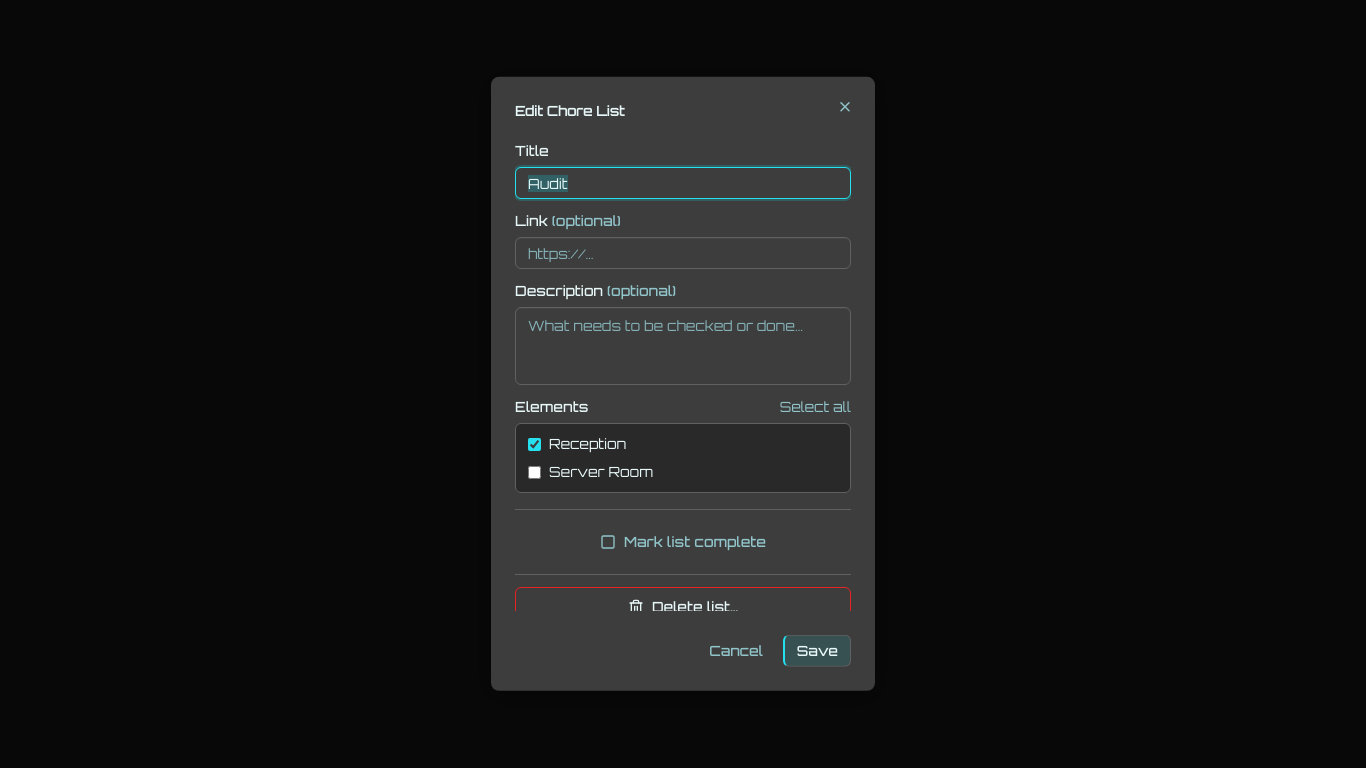
Test: EditChoreListDialog – delete › shows a confirmation prompt before deleting
The image size is (1366, 768).
Click the button "Delete list…" at (683, 607), box 515,587 -> 851,627
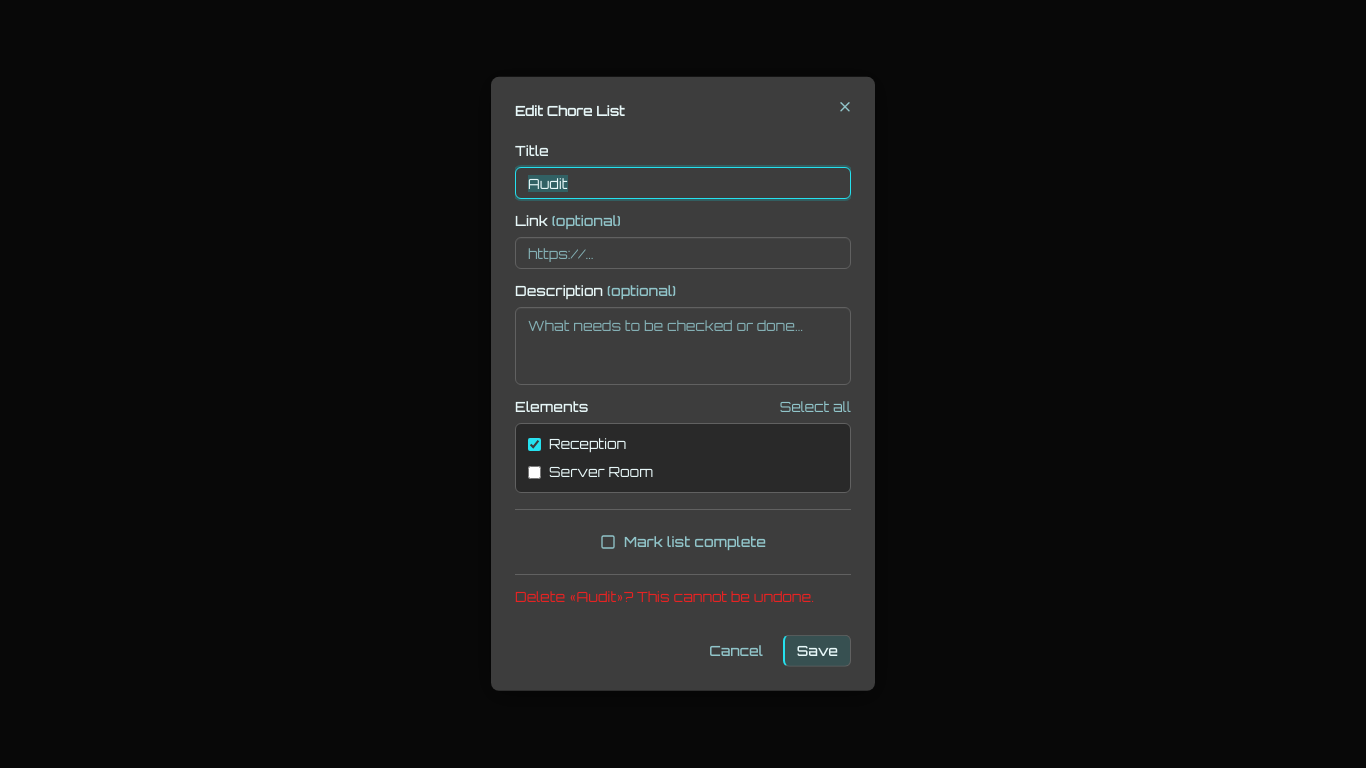
expect the text "Delete «Audit»? This cannot be undone." is shown: met, box 515,587 -> 851,607
